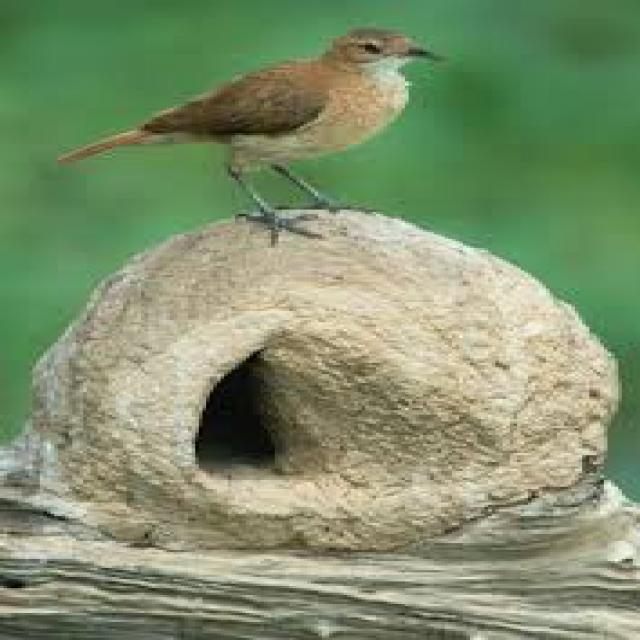bird: (41, 5, 526, 252)
